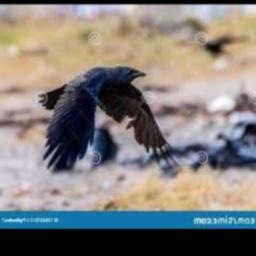Crow: (38, 65, 176, 174)
